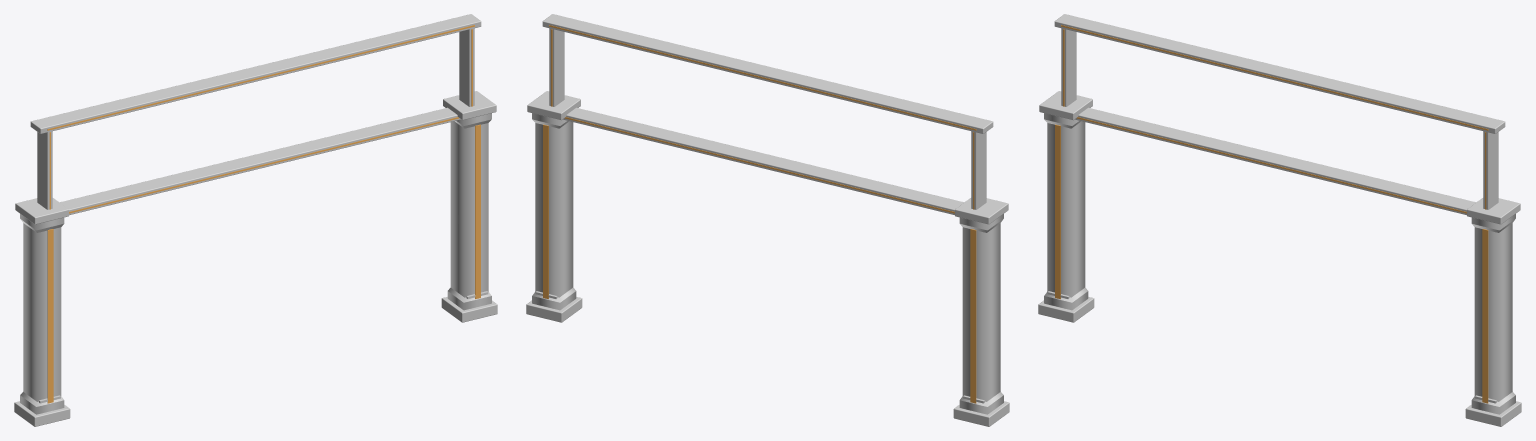
Rendered from HallEntrance.glb.
The picture shows the model from 3 angles, left to right: view 1: azimuth 30°, elevation 25°; view 2: azimuth 150°, elevation 25°; view 3: azimuth 330°, elevation 25°; orthographic projection.
Visible parts, largest first — view 1: Body, Glow; view 2: Body, Glow; view 3: Body, Glow.
Boxes of the visible parts, left/top/right/bottom form: Body: left=14, top=14, right=497, bottom=426; Glow: left=47, top=25, right=480, bottom=403; Body: left=526, top=14, right=1009, bottom=426; Glow: left=543, top=25, right=976, bottom=403; Body: left=1038, top=14, right=1521, bottom=426; Glow: left=1055, top=25, right=1488, bottom=403.
Bounding box in the file's own units: 67.2 × 40.5 × 5.2.
